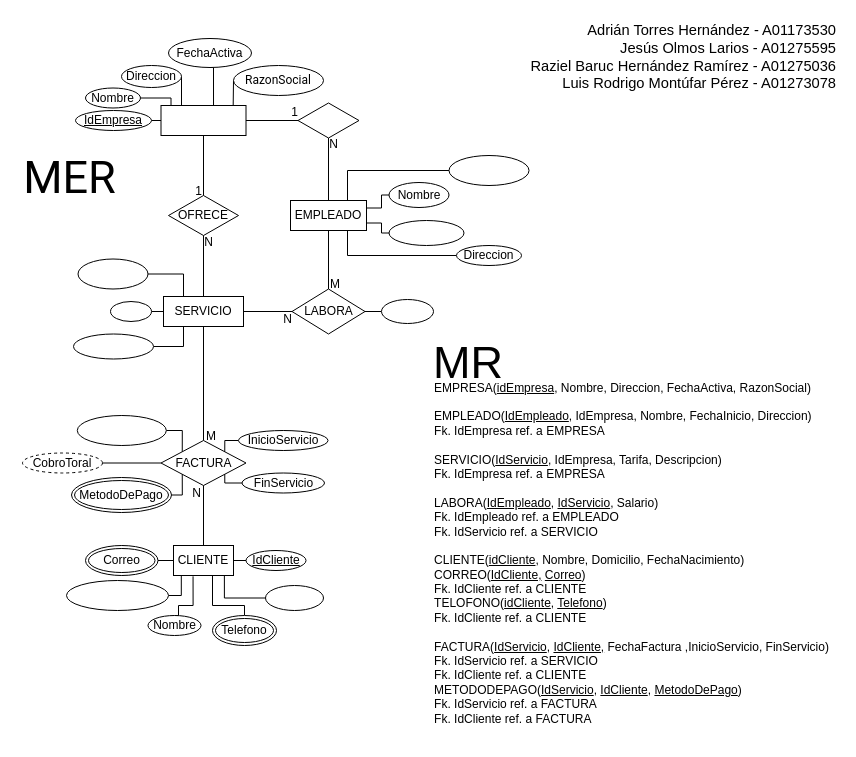
Image size: 856x757. Some labels were removed from this diagram. Here are the shapes that lost their labels. From the top down, the centre of each, then its label:
the point at 203,120: EMPRESA
the point at 328,120: TIENE
the point at 488,170: IdEmpleado
the point at 426,233: FechaInicio
the point at 112,273: IdServicio
the point at 131,311: Tarifa
the point at 407,311: Salario
the point at 113,346: Descripcion
the point at 121,430: FechaFactura
the point at 117,595: FechaNacimiento
the point at 294,597: Domicilio
